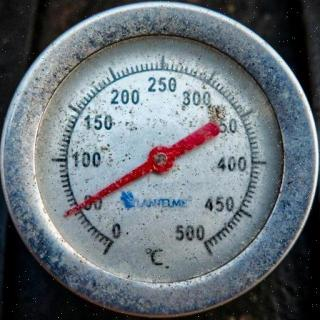gauge: (14, 14, 300, 306), (188, 225, 222, 263), (146, 142, 176, 174), (96, 226, 125, 256), (61, 206, 79, 220)
